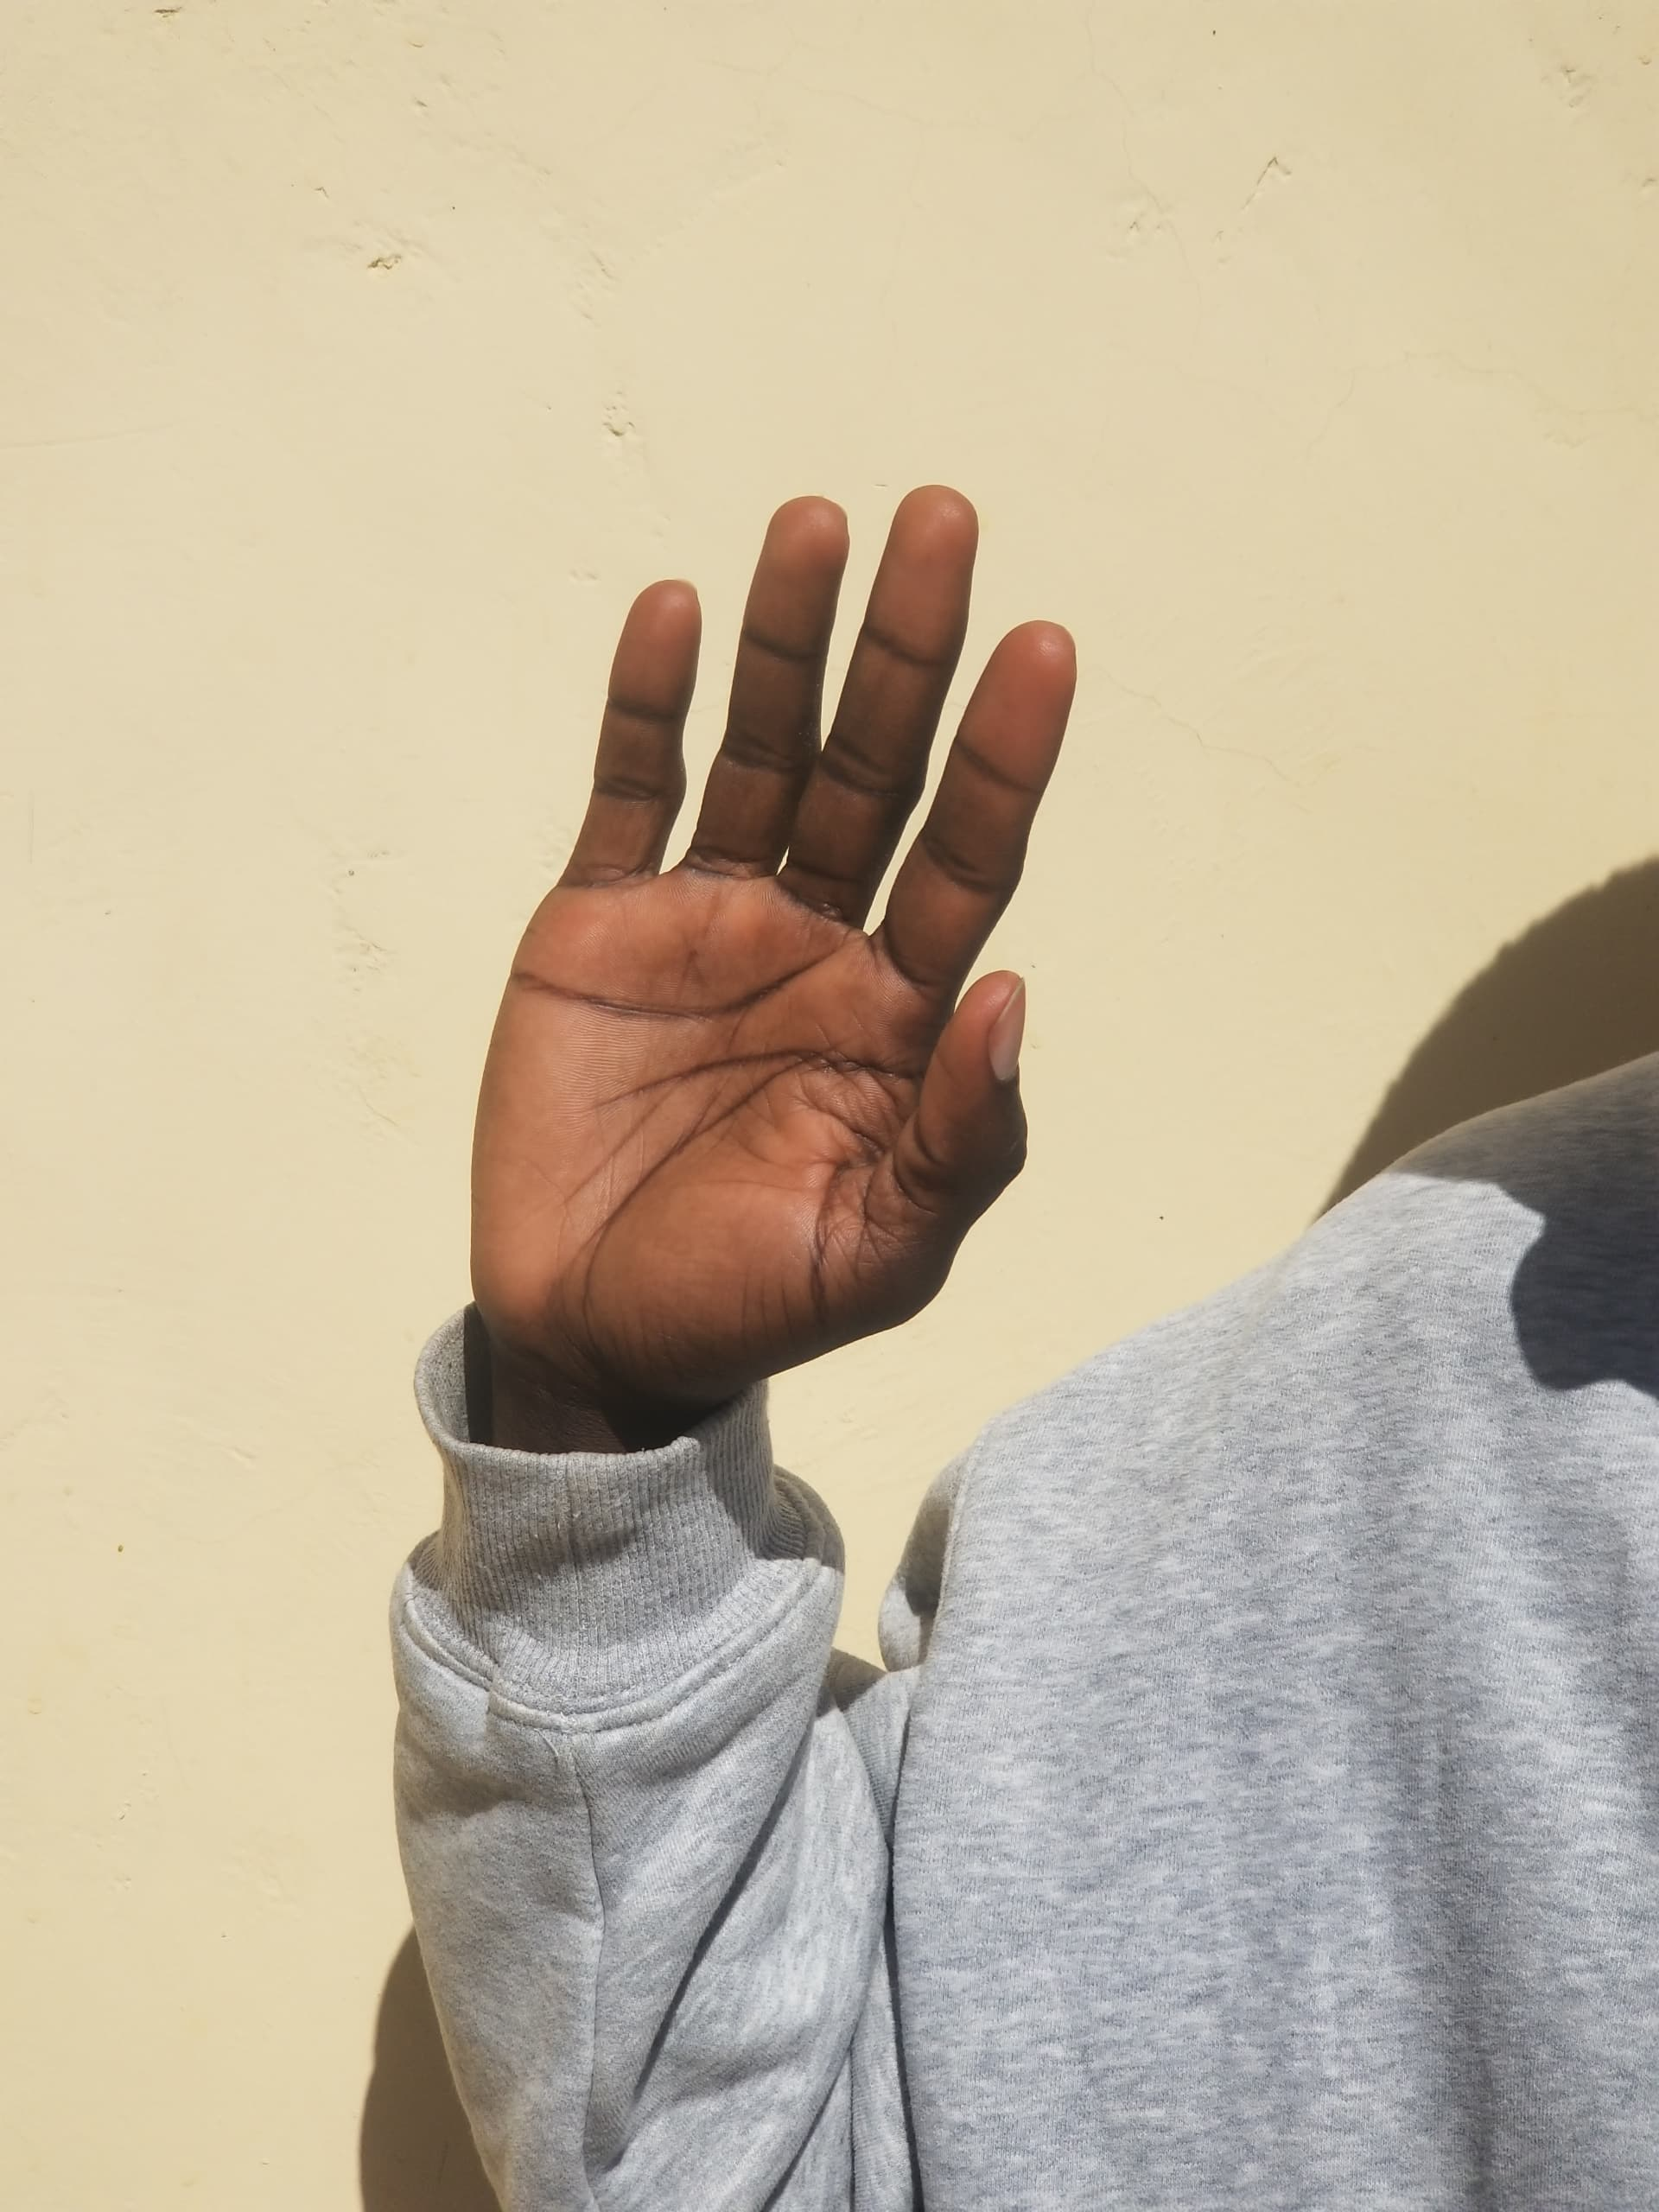hello: (401, 418, 1147, 1766)
